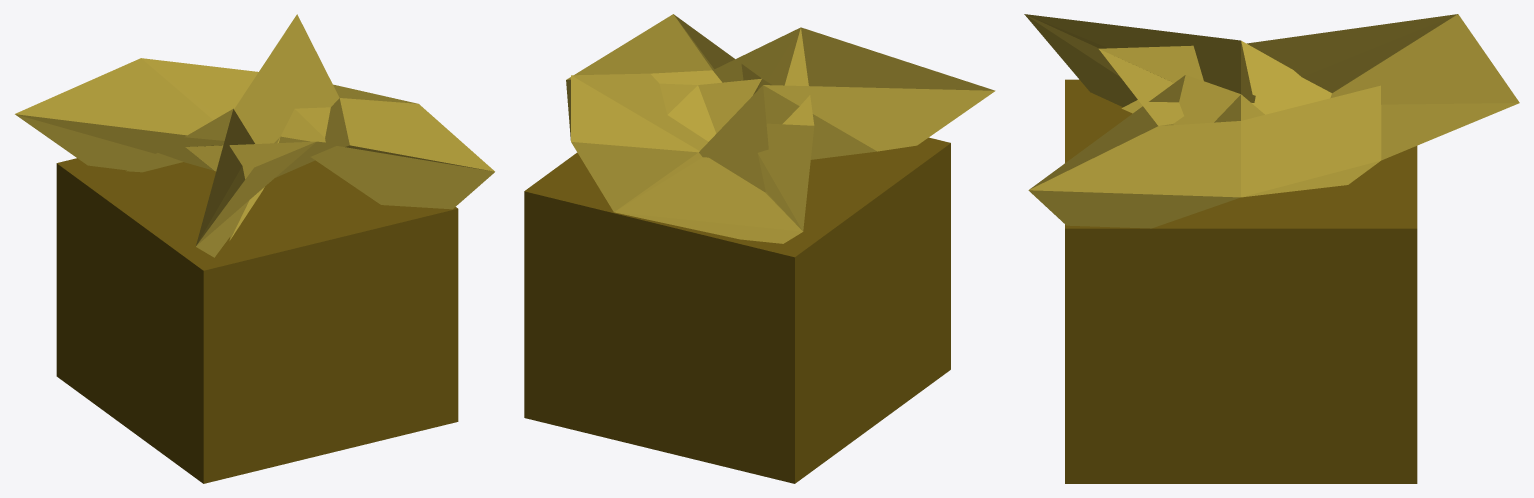
File: grass_autumn_1.glb
3 views of the same model, side by side, from view 1: azimuth 30°, elevation 25°; view 2: azimuth 150°, elevation 25°; view 3: azimuth 270°, elevation 25° (orthographic). The views are drawn at different scales.
Visible parts, largest first — view 1: Cube; view 2: Cube; view 3: Cube.
Part boxes in pixels (x1=…): Cube: x1=15, y1=14, x2=494, y2=483; Cube: x1=524, y1=14, x2=995, y2=483; Cube: x1=1024, y1=14, x2=1519, y2=483.
Bounding box in the file's own units: 2.46 × 2.39 × 2.82.
